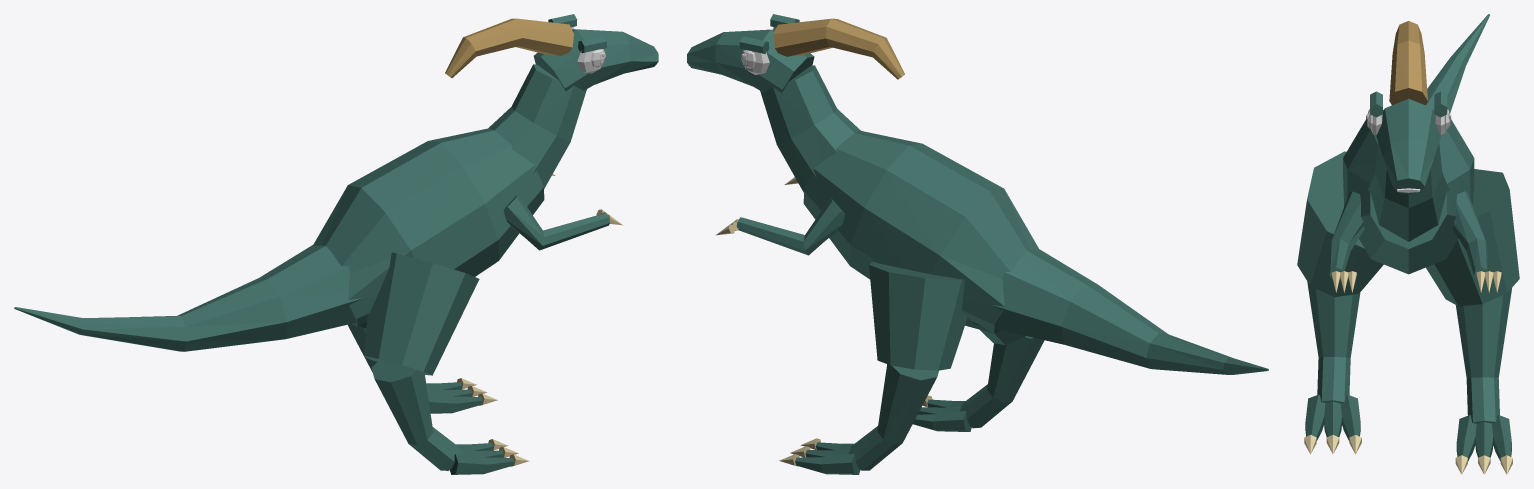
Rendered from SM_parasaurolophus.fbx.
3 views of the same model, side by side, from view 1: azimuth 30°, elevation 25°; view 2: azimuth 150°, elevation 25°; view 3: azimuth 270°, elevation 25° (orthographic). The views are drawn at different scales.
Parts seen in each view (by area): view 1: balanced torso.004, sinuous tail.004, muscular thigh.008, athletic neck.004, angled shin.008, streamlined head.003, swept crest, forearm.008, splayed toe.024, splayed toe.027; view 2: balanced torso.004, sinuous tail.004, muscular thigh.009, athletic neck.004, angled shin.009, streamlined head.003, swept crest, angled shin.008, forearm.009, splayed toe.029, splayed toe.026; view 3: balanced torso.004, muscular thigh.009, muscular thigh.008, angled shin.009, streamlined head.003, angled shin.008, athletic neck.004, swept crest, sinuous tail.004, forearm.009, forearm.008, splayed toe.027 (+7 smaller).
Boxes of the visible parts, x1,y1,x2,y2 form: balanced torso.004: (313,128,544,326); sinuous tail.004: (14,245,362,351); muscular thigh.008: (363,252,479,375); athletic neck.004: (488,64,586,188); angled shin.008: (371,361,461,470); streamlined head.003: (533,29,658,91); swept crest: (445,18,573,77); forearm.008: (503,195,609,250); splayed toe.024: (450,454,513,474); splayed toe.027: (427,393,482,413); balanced torso.004: (803,130,1039,333); sinuous tail.004: (973,249,1268,374); muscular thigh.009: (869,262,966,370); athletic neck.004: (760,65,860,192); angled shin.009: (848,364,938,470); streamlined head.003: (687,29,814,92); swept crest: (773,18,904,79); angled shin.008: (959,336,1044,428); forearm.009: (736,198,845,255); splayed toe.029: (795,453,860,474); splayed toe.026: (913,411,971,431); balanced torso.004: (1343,110,1474,274); muscular thigh.009: (1426,169,1519,306); muscular thigh.008: (1297,151,1383,297); angled shin.009: (1455,287,1512,423); streamlined head.003: (1376,98,1440,194); angled shin.008: (1307,282,1360,403); athletic neck.004: (1368,143,1449,241); swept crest: (1389,21,1427,105); sinuous tail.004: (1425,14,1489,113); forearm.009: (1452,191,1487,279); forearm.008: (1329,191,1364,278); splayed toe.027: (1456,415,1476,461).
Size of the model in its own units: 930 by 277 by 597.
